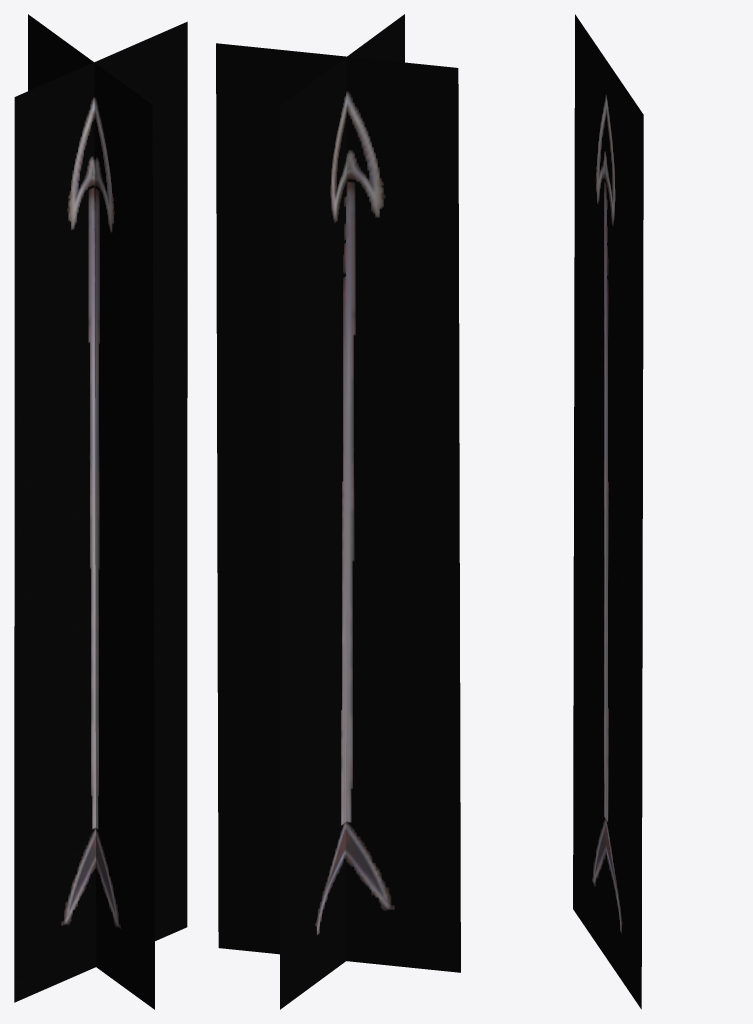
Rendered from arrow.glb.
3 views of the same model, side by side, from view 1: azimuth 30°, elevation 25°; view 2: azimuth 150°, elevation 25°; view 3: azimuth 270°, elevation 25° (orthographic).
Parts seen in each view (by area): view 1: moonArrow1.001, moonArrow1.002; view 2: moonArrow1.001, moonArrow1.002; view 3: moonArrow1.001.
Boxes of the visible parts, left/top/right/bottom form: moonArrow1.001: left=14, top=21, right=187, bottom=1002; moonArrow1.002: left=28, top=14, right=154, bottom=1009; moonArrow1.001: left=216, top=43, right=460, bottom=972; moonArrow1.002: left=280, top=14, right=404, bottom=1009; moonArrow1.001: left=573, top=14, right=643, bottom=1009.
Bounding box in the file's own units: 0.4838 × 2 × 0.5045.
1 material, 1 textured.
